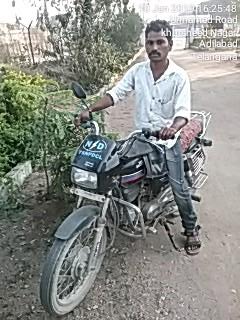plate: (68, 187, 108, 206)
